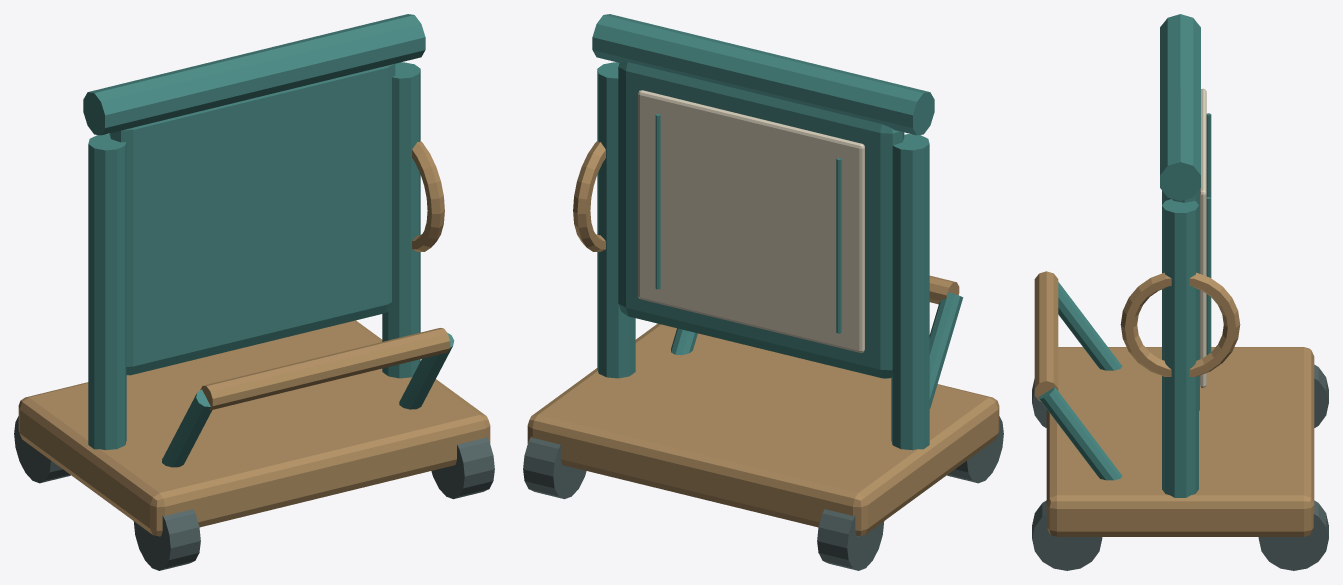
Rendered from moonbay-guide-v1.glb.
3 renders of one model, left to right at view 1: azimuth 30°, elevation 25°; view 2: azimuth 150°, elevation 25°; view 3: azimuth 270°, elevation 25°, orthographic. The views are drawn at different scales.
Parts seen in each view (by area): view 1: MB_copper_geometry, MB_woodlight_geometry, MB_iron_geometry; view 2: MB_copper_geometry, MB_woodlight_geometry, MB_trim_geometry, MB_iron_geometry; view 3: MB_woodlight_geometry, MB_copper_geometry, MB_iron_geometry, MB_trim_geometry.
Part boxes in pixels (<box>): MB_copper_geometry: <box>83,14,454,467</box>; MB_woodlight_geometry: <box>18,140,490,536</box>; MB_iron_geometry: <box>14,416,494,570</box>; MB_copper_geometry: <box>592,14,963,450</box>; MB_woodlight_geometry: <box>527,140,999,536</box>; MB_trim_geometry: <box>638,90,864,352</box>; MB_iron_geometry: <box>523,416,1003,570</box>; MB_woodlight_geometry: <box>1034,271,1314,536</box>; MB_copper_geometry: <box>1038,14,1211,497</box>; MB_iron_geometry: <box>1032,364,1328,570</box>; MB_trim_geometry: <box>1200,88,1206,387</box>.
Bounding box in the file's own units: 1.8 × 2.18 × 1.44.
